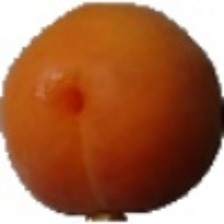apricot: (45, 41, 215, 220)
